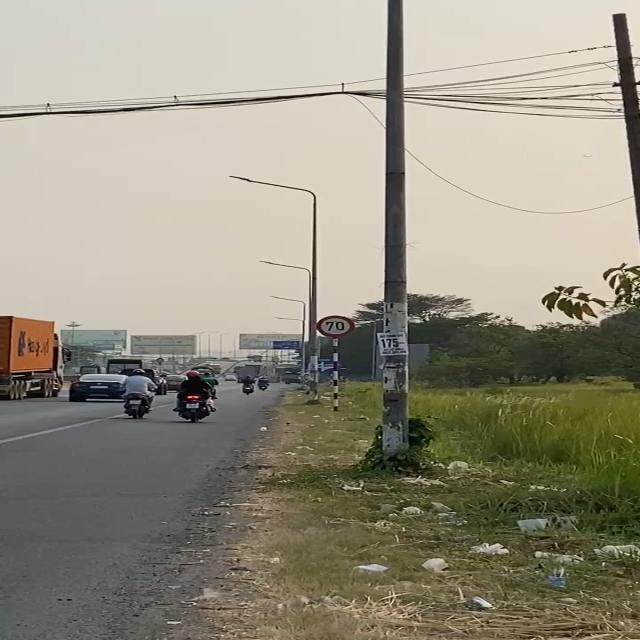127-toc-do-toi-da-70: (316, 314, 356, 338)
